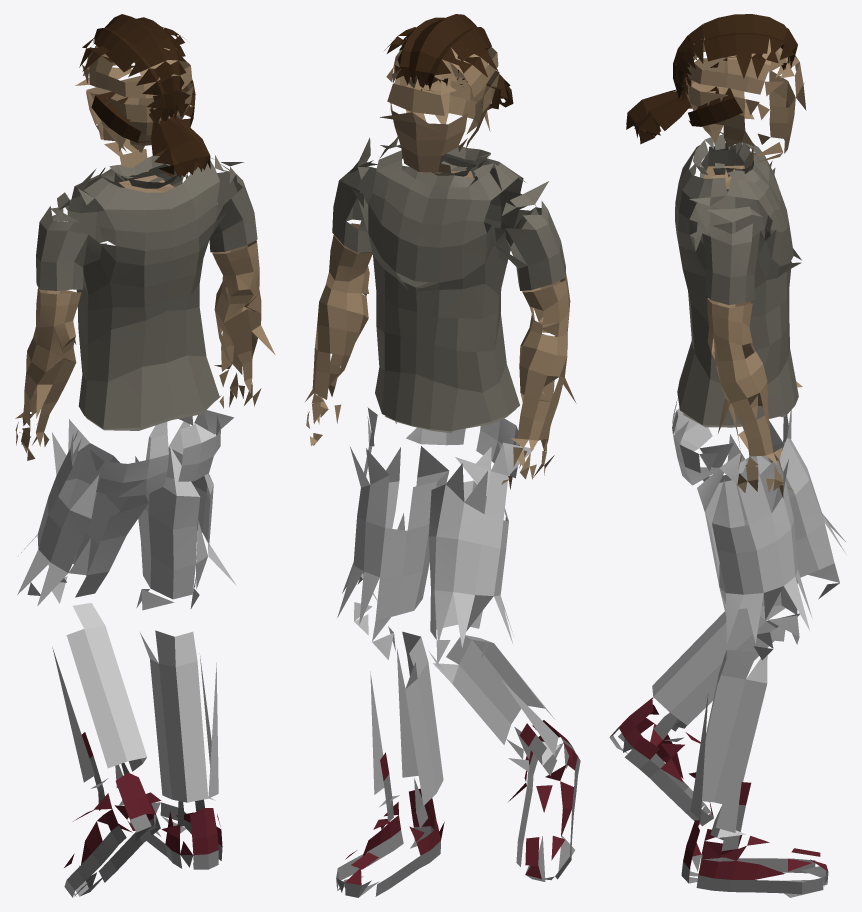
Rendered from person_9_w3.fbx.
3 views of the same model, side by side, from view 1: azimuth 30°, elevation 25°; view 2: azimuth 150°, elevation 25°; view 3: azimuth 270°, elevation 25° (orthographic). The views are drawn at different scales.
Visible parts, largest first — view 1: Casual2_Feet; view 2: Casual2_Feet; view 3: Casual2_Feet.
Boxes of the visible parts, x1,y1,x2,y2 form: Casual2_Feet: [15, 14, 275, 897]; Casual2_Feet: [305, 14, 580, 897]; Casual2_Feet: [609, 14, 846, 897].
Bounding box in the file's own units: 0.3 × 0.999 × 0.2548.
